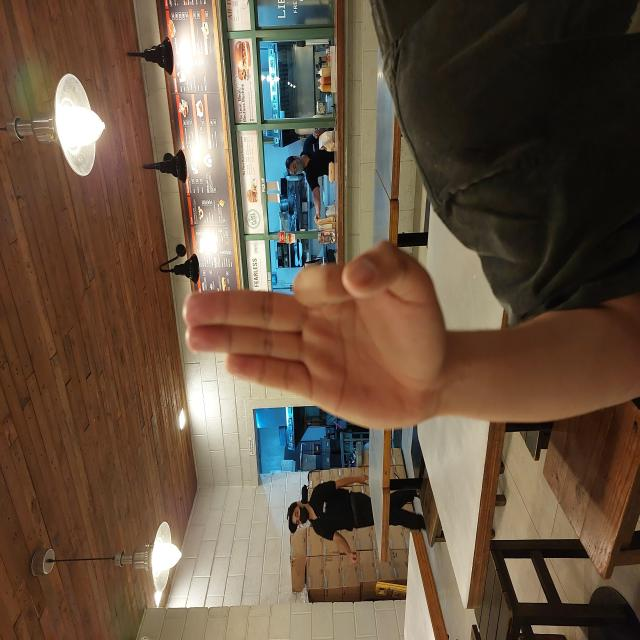F: (210, 182, 402, 450)
